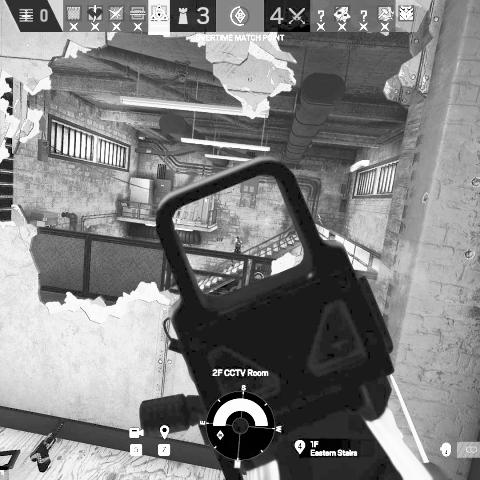Character: (232, 236, 244, 268)
Head: (236, 236, 240, 241)
